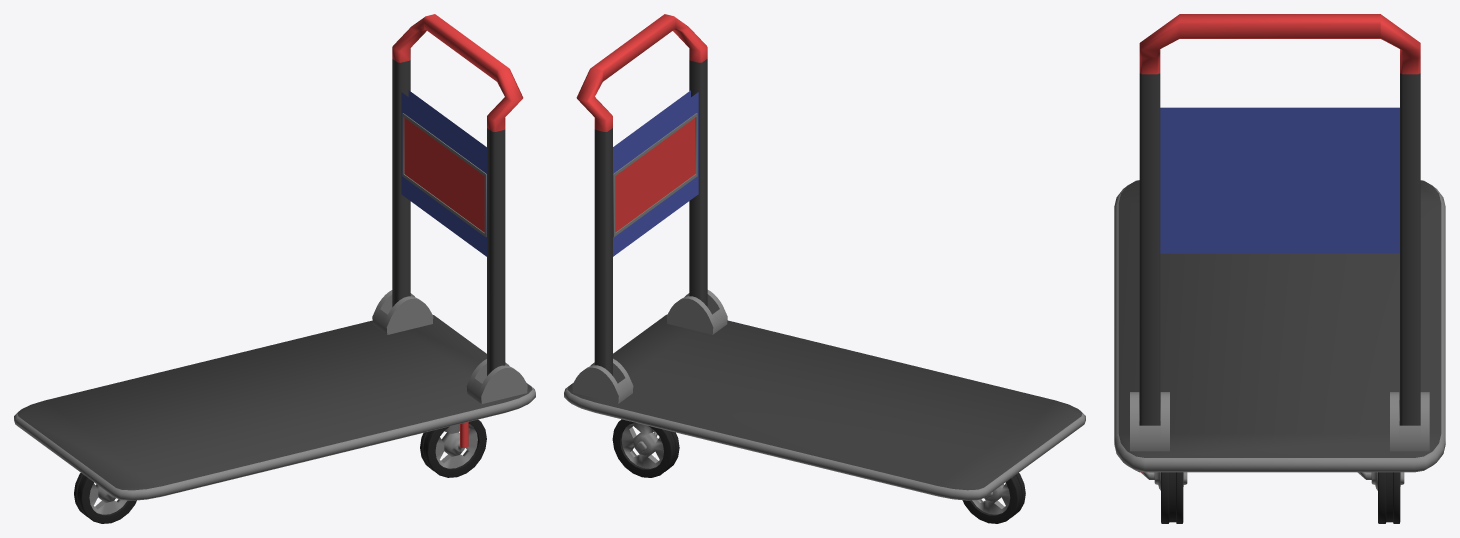
The model's file is Cart.fbx.
3 views of the same model, side by side, from view 1: azimuth 30°, elevation 25°; view 2: azimuth 150°, elevation 25°; view 3: azimuth 270°, elevation 25° (orthographic). The views are drawn at different scales.
Parts seen in each view (by area): view 1: Cart; view 2: Cart; view 3: Cart.
Part boxes in pixels (x1,y1,x2,y2): Cart: [14, 14, 535, 523]; Cart: [564, 14, 1085, 523]; Cart: [1114, 14, 1445, 523].
Size of the model in its own units: 11.23 by 9.96 by 5.56.
